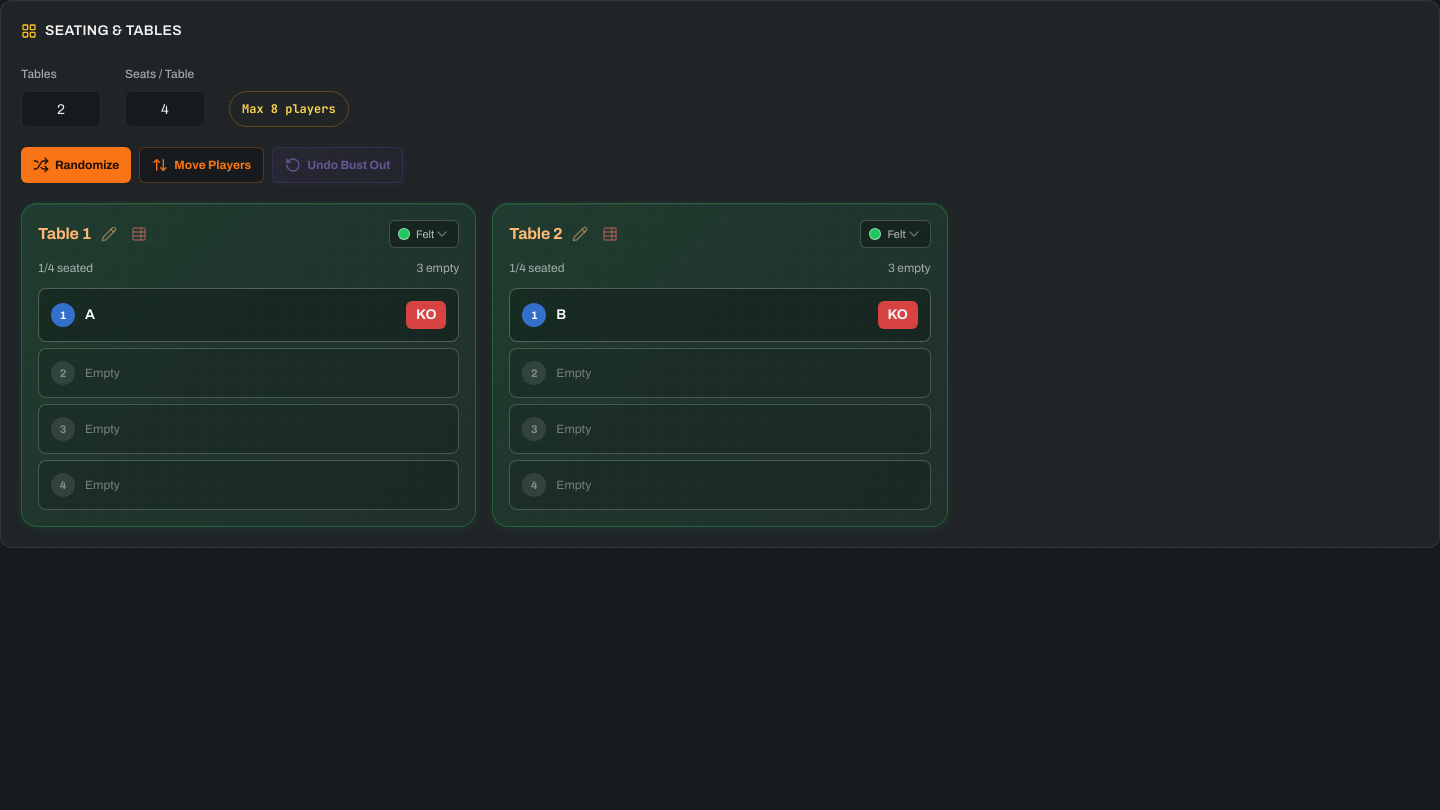
Test: TablesSection › asks before lowering Tables strands somebody, and moves only them
The image size is (1440, 810).
Later steps or results of the test are not shown.
Replace the text in the field labelled "Tables" with "1" at (61, 109), box 21,91 -> 101,127
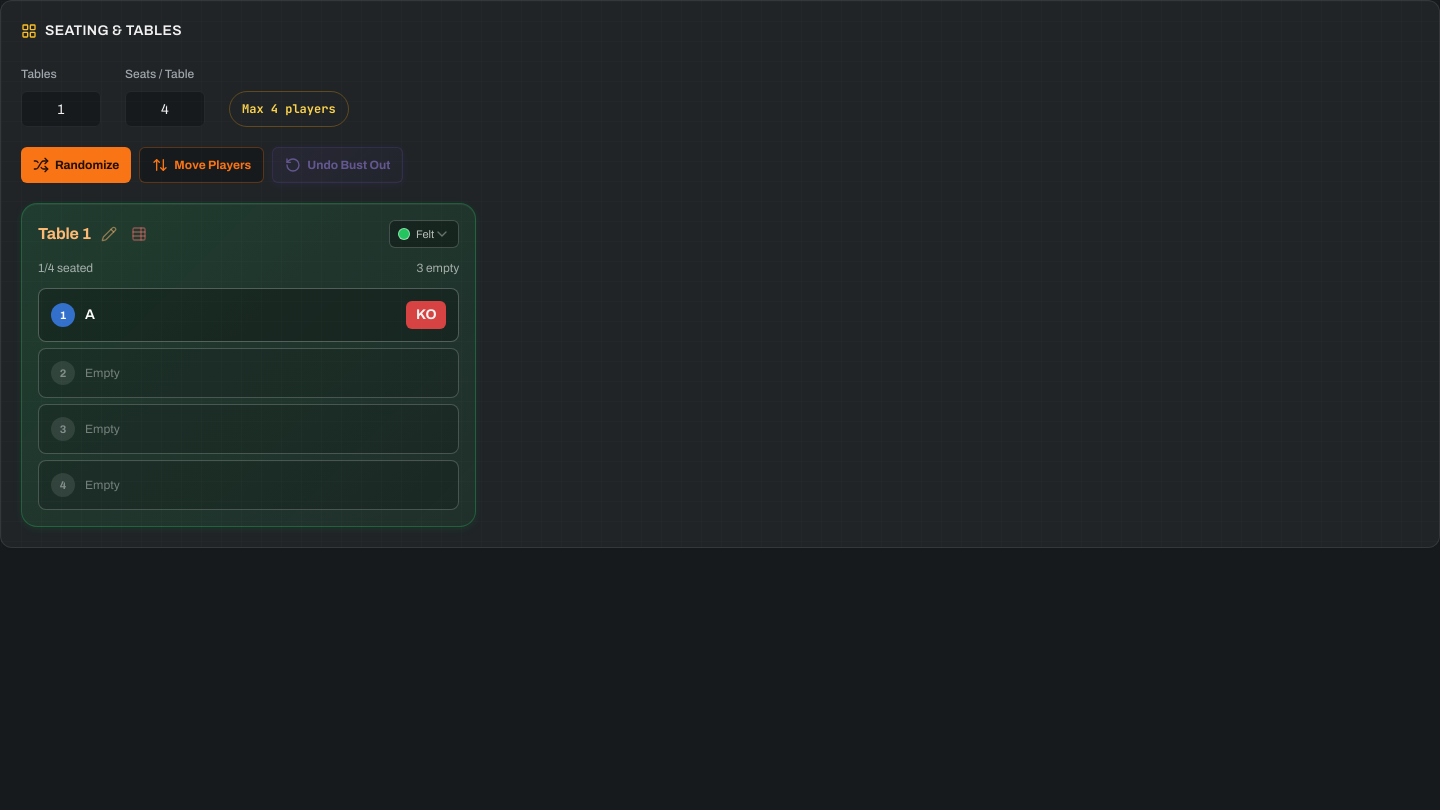
Leave the field labelled "Tables", box 21,91 -> 101,127
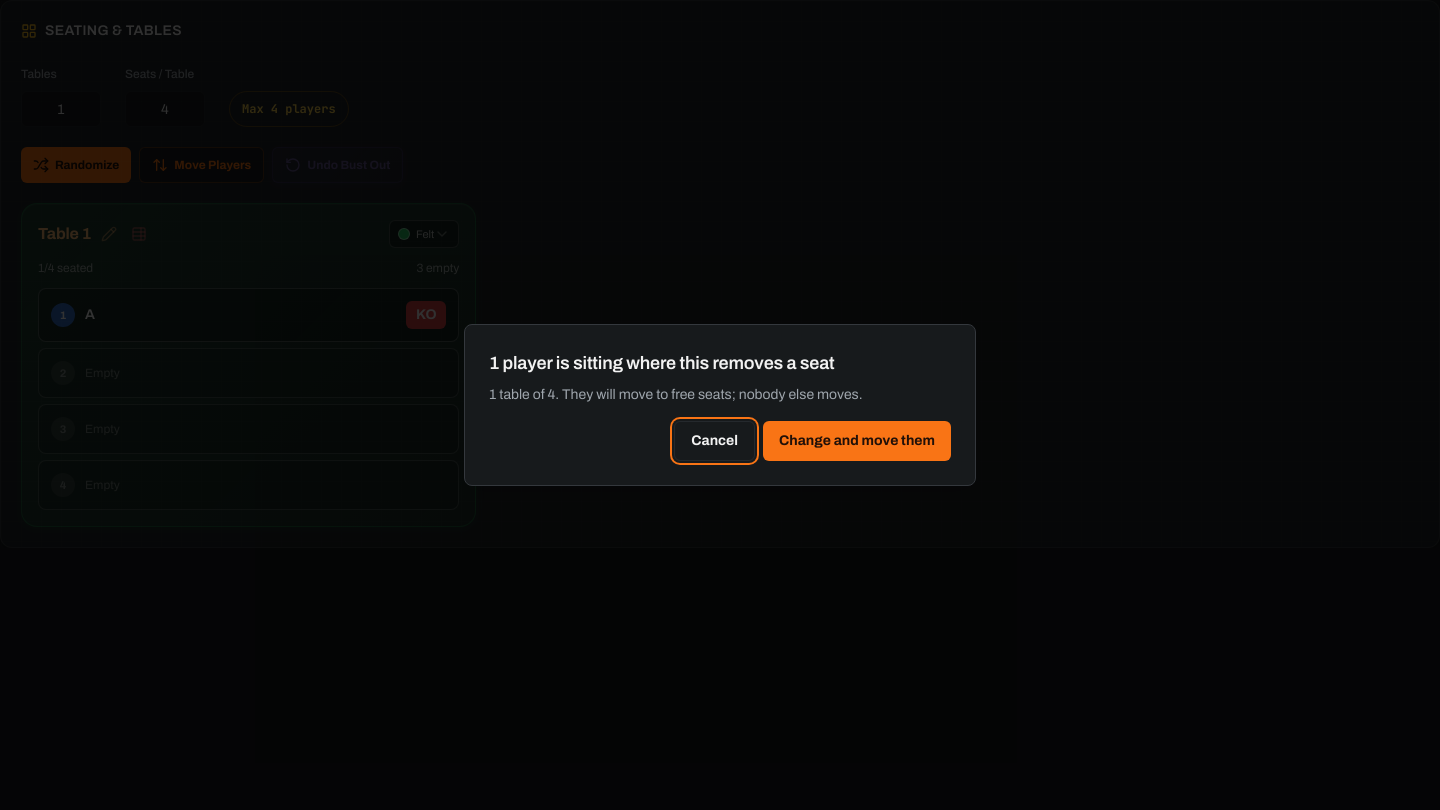
Check: the heading "1 player is sitting where this removes a seat" is shown, box 489,353 -> 834,373
